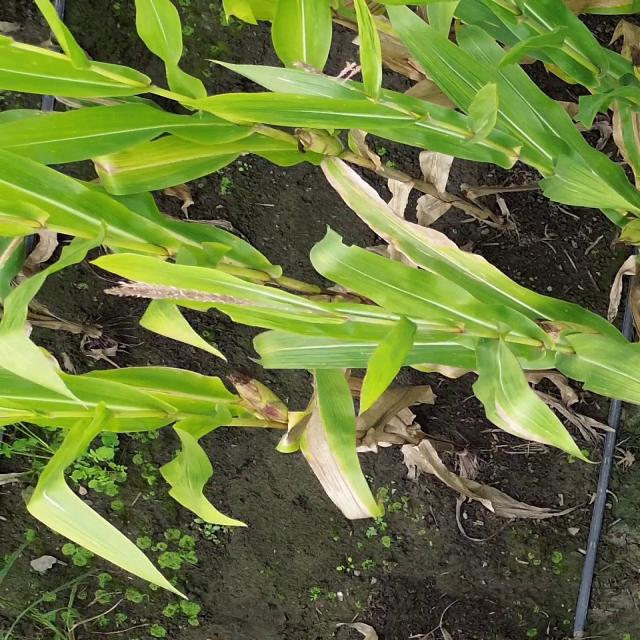gray-leaf-spot: (363, 93, 473, 152)
northern-leaf-blight: (320, 161, 510, 294), (460, 356, 582, 468), (301, 361, 378, 529)
southern-leaf-blight: (18, 99, 118, 164)
